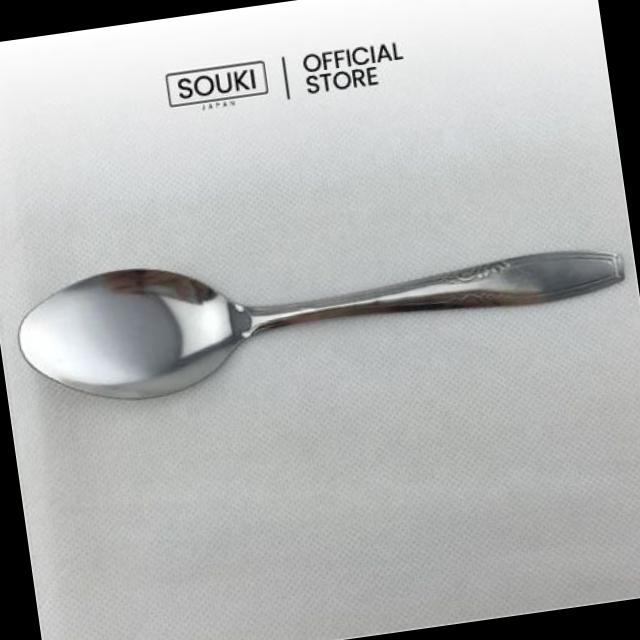spoon: (5, 194, 640, 428)
